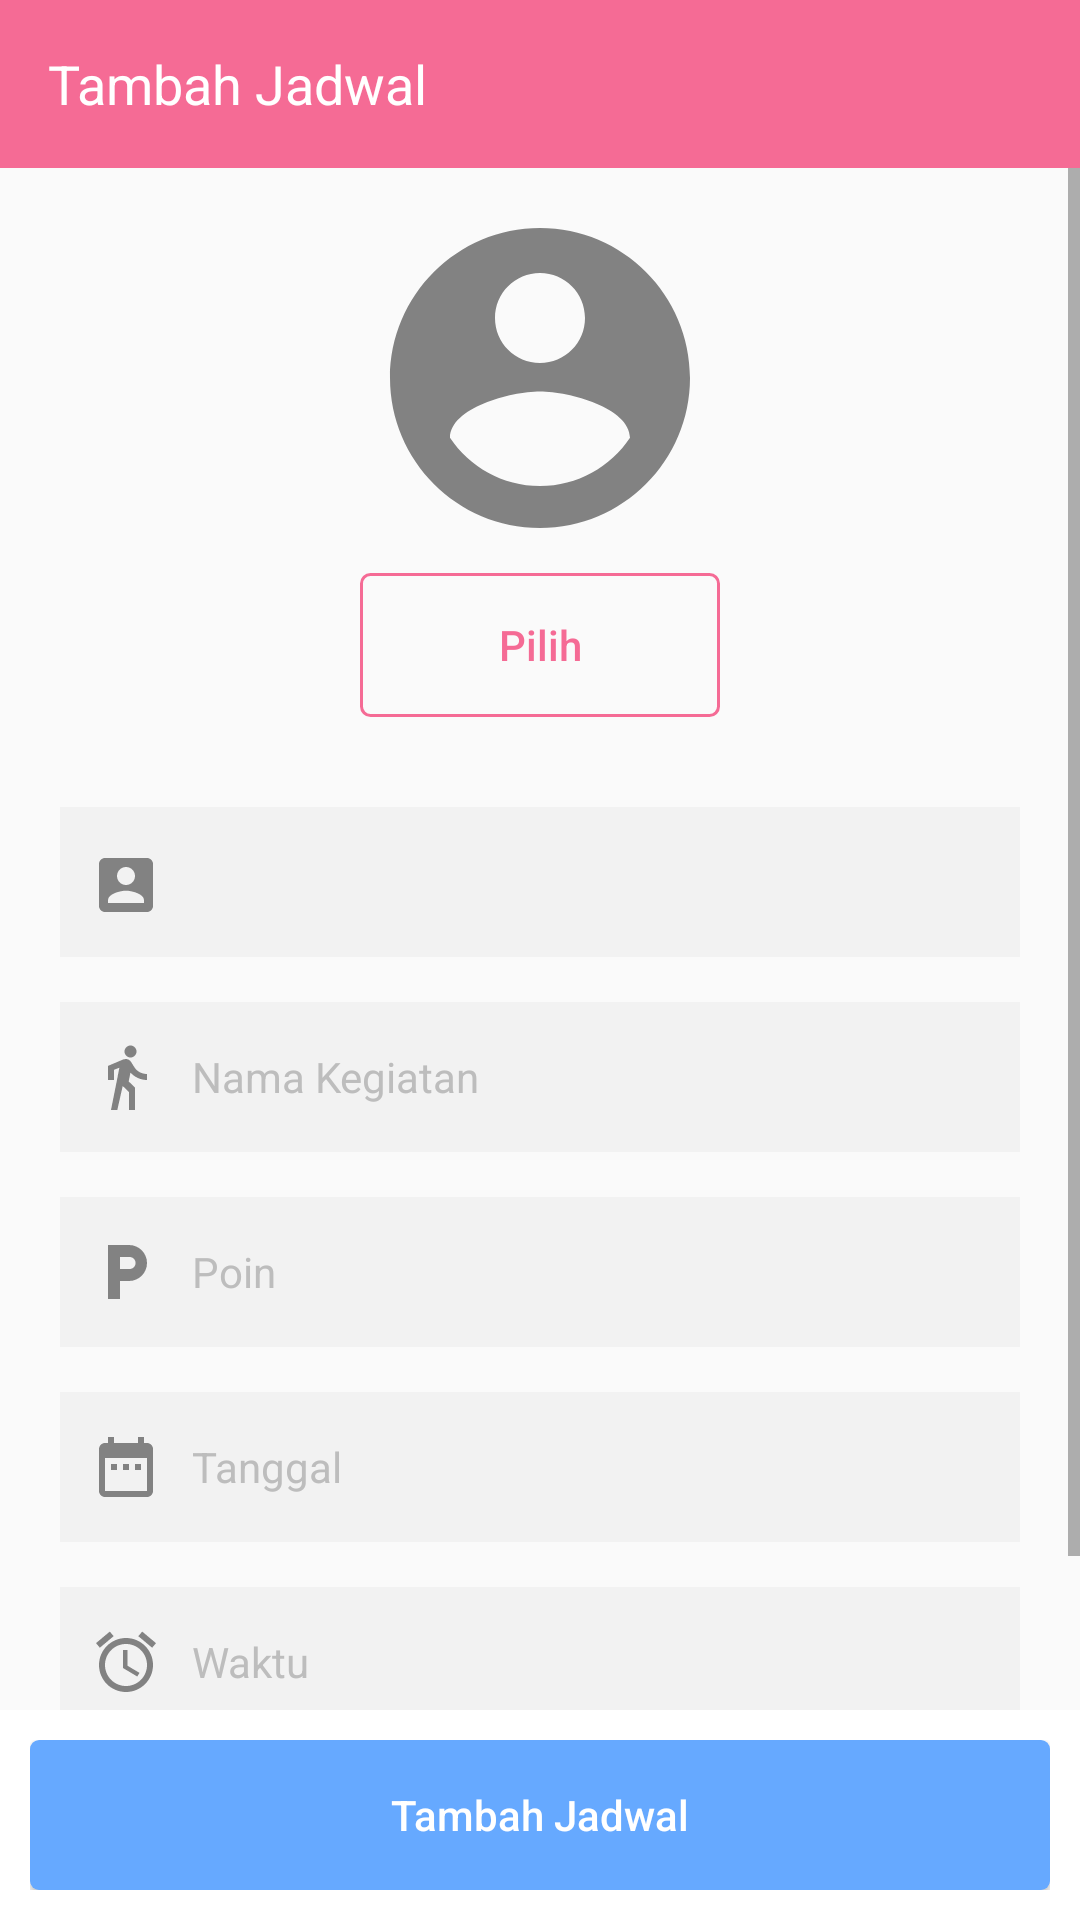

Icon click points for this 1080 × 1920 phone screenshot, format [x,y]:
account: [126,885]
account circle: [540,378]
